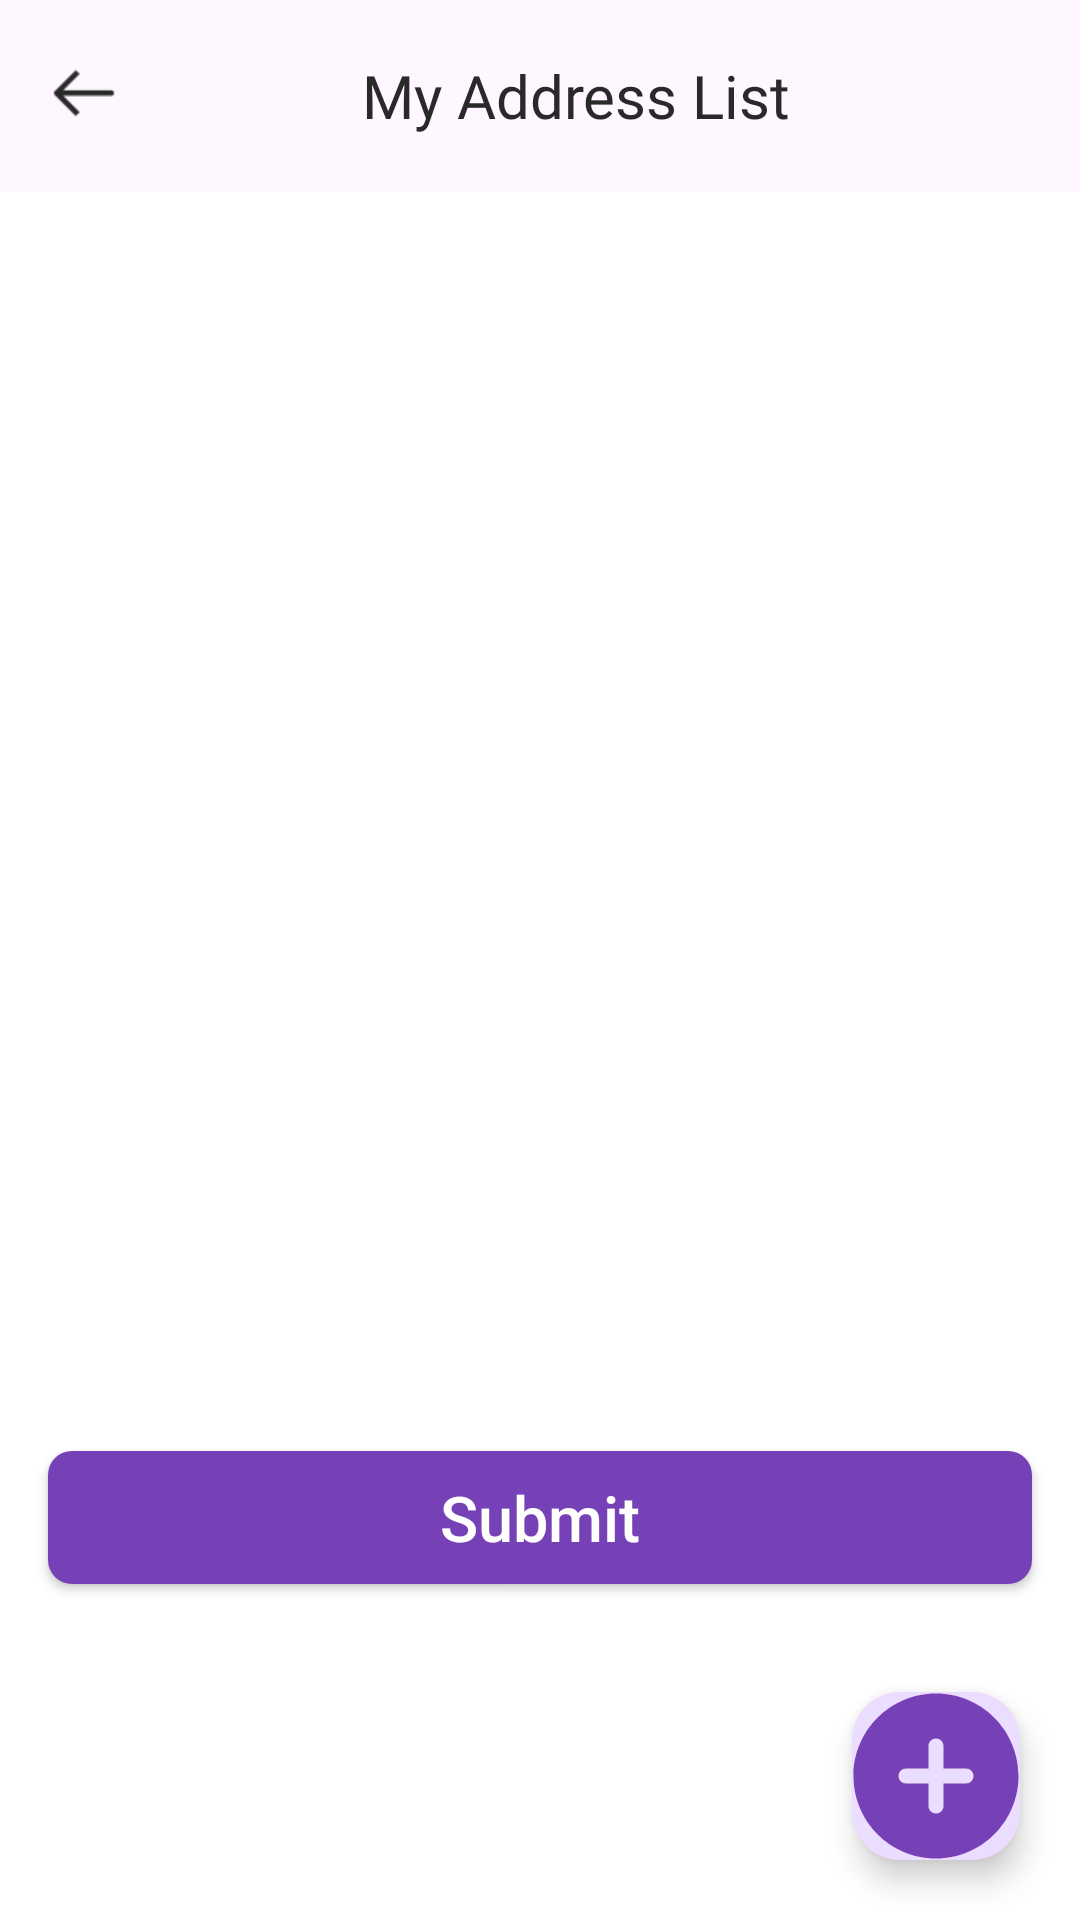

Screen size 1080px×1920px. Icon name, then its center in pixels as [x,y]:
arrow left: [84,92]
plus: [936,1776]
